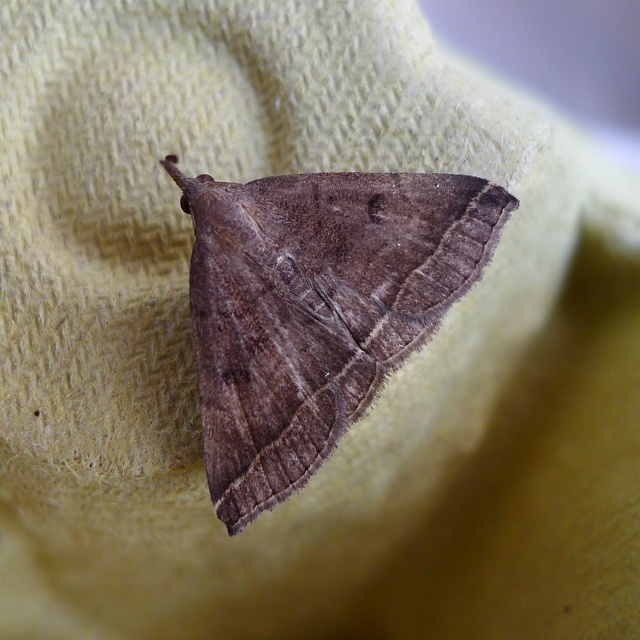Moths and butterflies: (160, 156, 520, 541)
